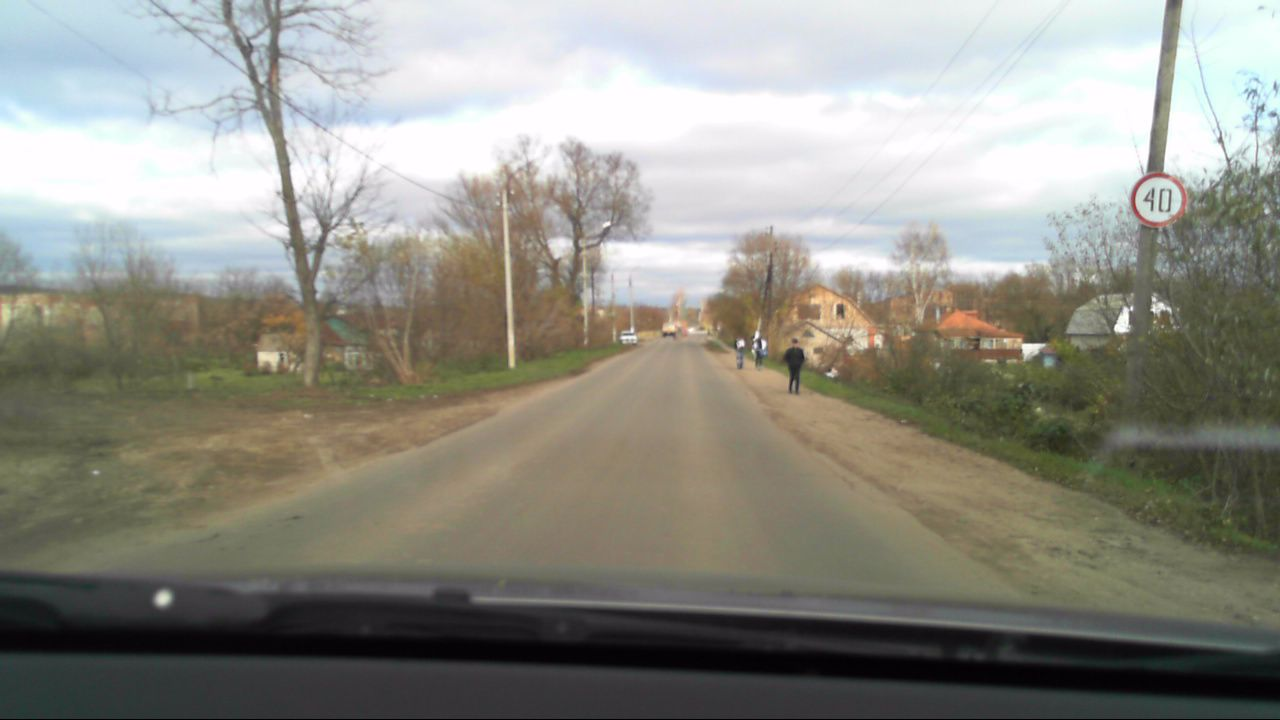speed_warning_40: (1127, 173, 1186, 228)
